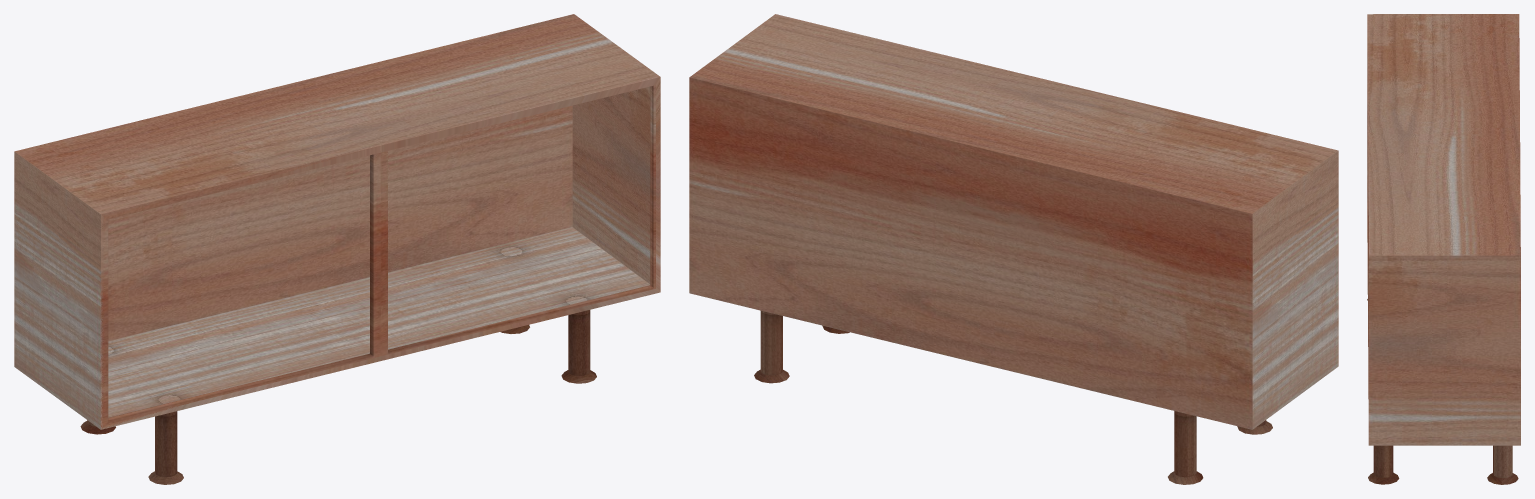
File: cabinet.glb
3 renders of one model, left to right at view 1: azimuth 30°, elevation 25°; view 2: azimuth 150°, elevation 25°; view 3: azimuth 270°, elevation 25°, orthographic. The views are drawn at different scales.
Parts seen in each view (by area): view 1: frl_apartment_cabinet; view 2: frl_apartment_cabinet; view 3: frl_apartment_cabinet.
Boxes of the visible parts, left/top/right/bottom form: frl_apartment_cabinet: left=14, top=14, right=660, bottom=484; frl_apartment_cabinet: left=689, top=14, right=1338, bottom=484; frl_apartment_cabinet: left=1367, top=14, right=1520, bottom=484.
Size of the model in its own units: 1.59 by 0.778 by 0.4271.
Materials: 1 (1 with a texture image).
